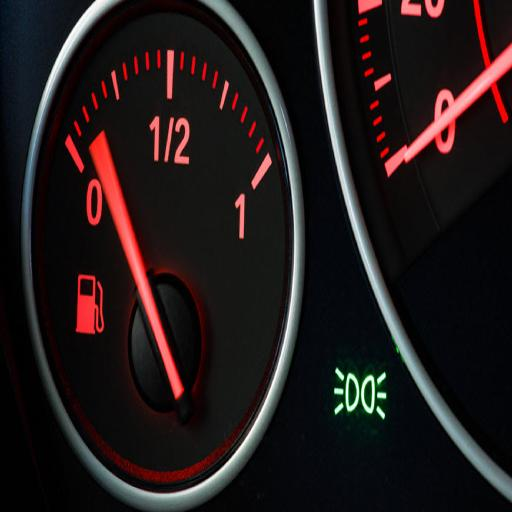empty: (86, 176, 104, 233)
fuel_icon: (70, 264, 104, 346)
full: (230, 189, 250, 249)
guage_area: (4, 4, 323, 512)
needle_center: (126, 258, 204, 424)
needle_tip: (85, 122, 124, 178)
